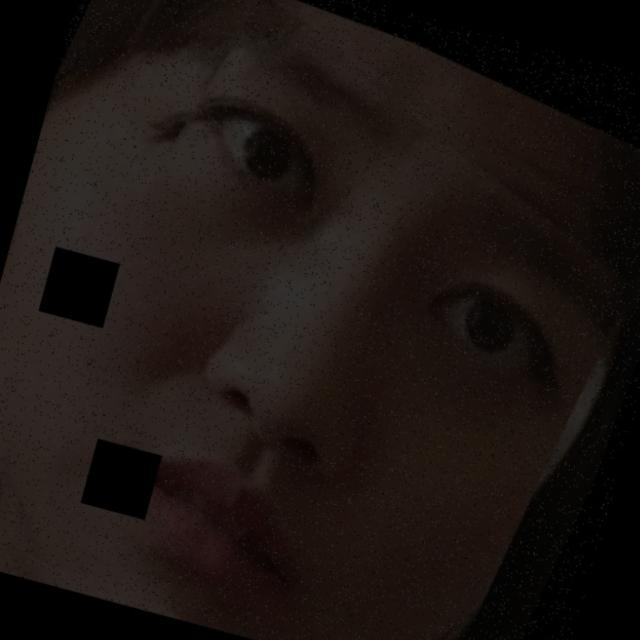Surprised: (73, 30, 590, 640)
